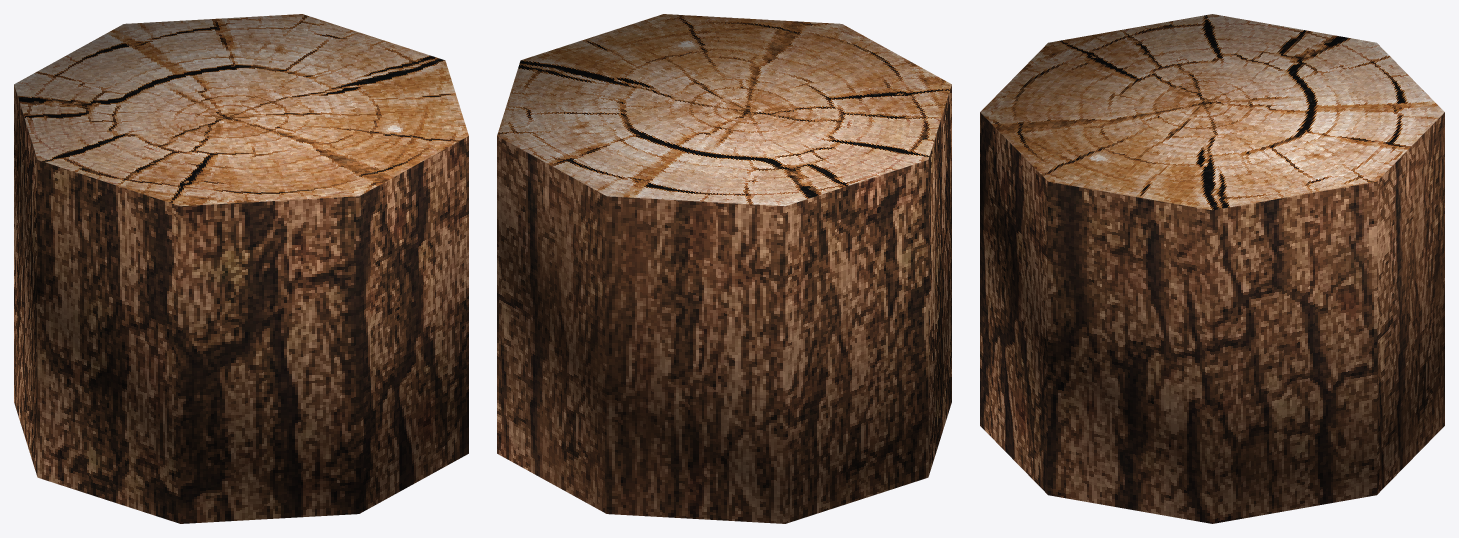
Rendered from LogStump.glb.
3 renders of one model, left to right at view 1: azimuth 30°, elevation 25°; view 2: azimuth 150°, elevation 25°; view 3: azimuth 270°, elevation 25°, orthographic.
Visible parts, largest first — view 1: Log Stump; view 2: Log Stump; view 3: Log Stump.
Part boxes in pixels (x1,y1,x2,y2): Log Stump: (14, 14, 468, 523); Log Stump: (497, 14, 951, 523); Log Stump: (980, 14, 1444, 523).
Bounding box in the file's own units: 0.4941 × 0.3678 × 0.4941.
Materials: 1 (1 with a texture image).
